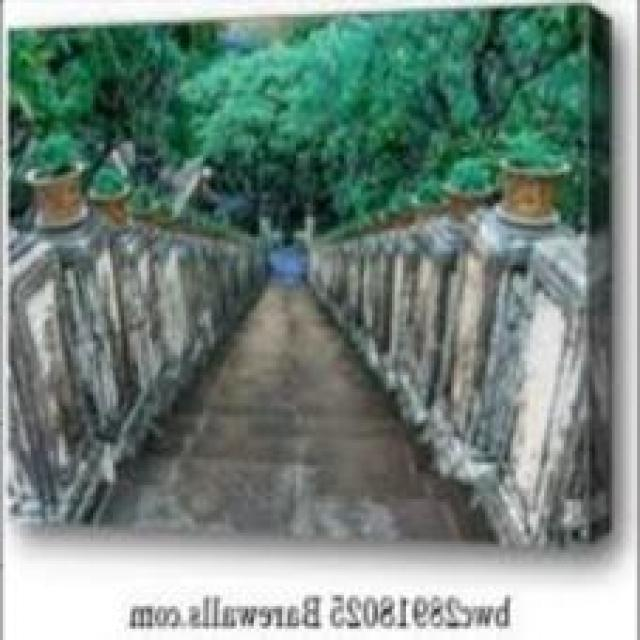stair: (106, 193, 495, 539)
